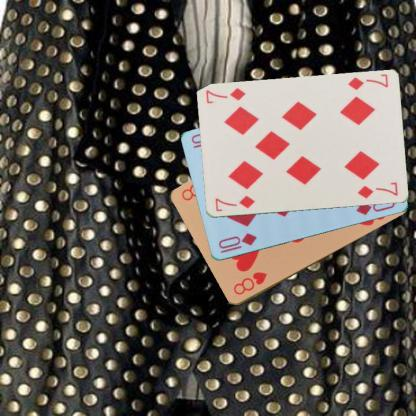10d: (216, 230, 258, 255)
7d: (212, 193, 256, 213), (345, 72, 389, 92)
8h: (231, 269, 268, 297)
